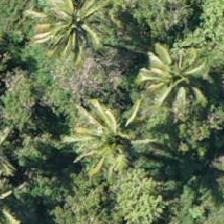coconut_tree: (68, 93, 158, 183), (45, 0, 135, 72), (106, 153, 196, 223), (0, 146, 62, 223)
